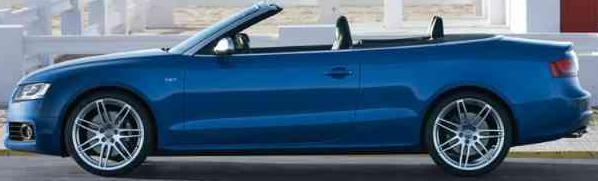front_view: (2, 77, 62, 156)
headlight: (15, 82, 52, 105)
